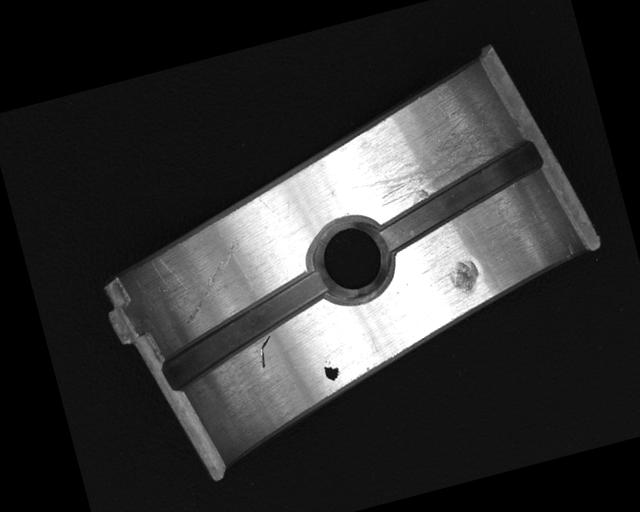blot: (321, 357, 342, 383)
bruise: (444, 255, 484, 298)
gap: (149, 270, 341, 393), (363, 139, 555, 255)
hole: (303, 209, 400, 309)
nick: (165, 236, 257, 327), (253, 334, 278, 370)
scratch: (331, 90, 533, 221)
